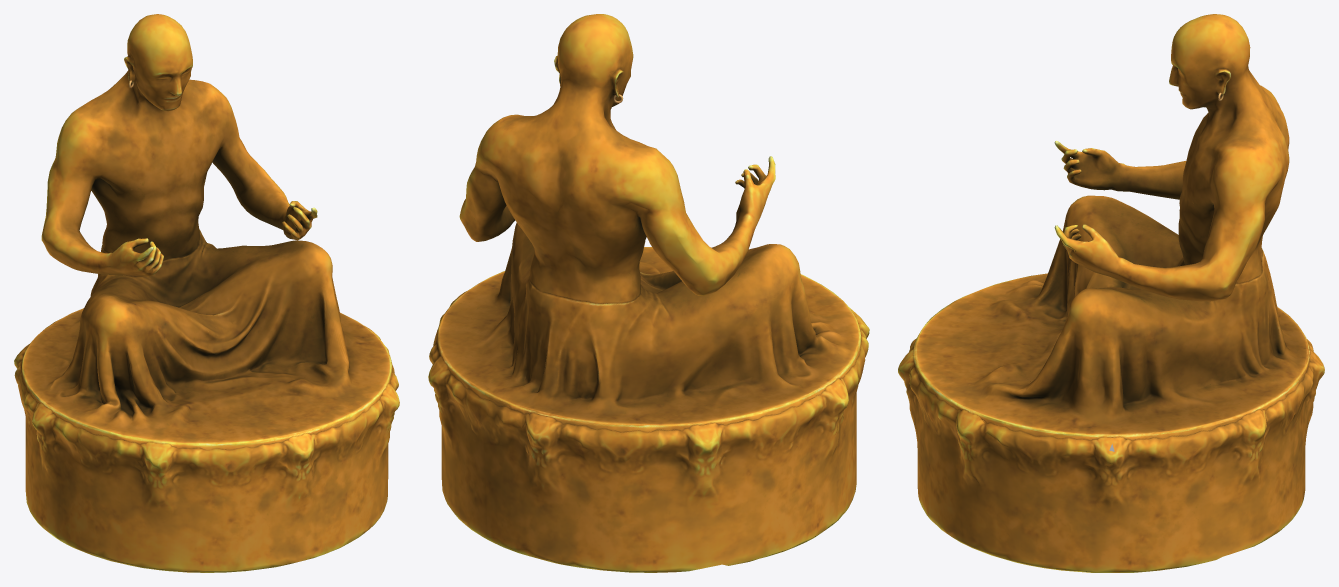
File: Buddah_sans_collier.fbx
3 views of the same model, side by side, from view 1: azimuth 30°, elevation 25°; view 2: azimuth 150°, elevation 25°; view 3: azimuth 270°, elevation 25° (orthographic). The views are drawn at different scales.
Parts seen in each view (by area): view 1: Buddah; view 2: Buddah; view 3: Buddah.
Part boxes in pixels (x1,y1,x2,y2): Buddah: [14, 14, 399, 572]; Buddah: [428, 14, 869, 572]; Buddah: [898, 14, 1324, 572].
Size of the model in its own units: 501 by 616 by 501.
